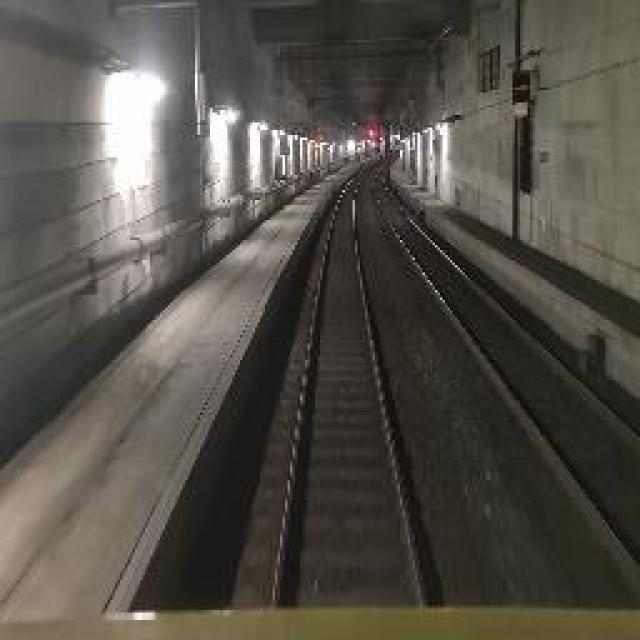rail: (247, 169, 466, 610)
